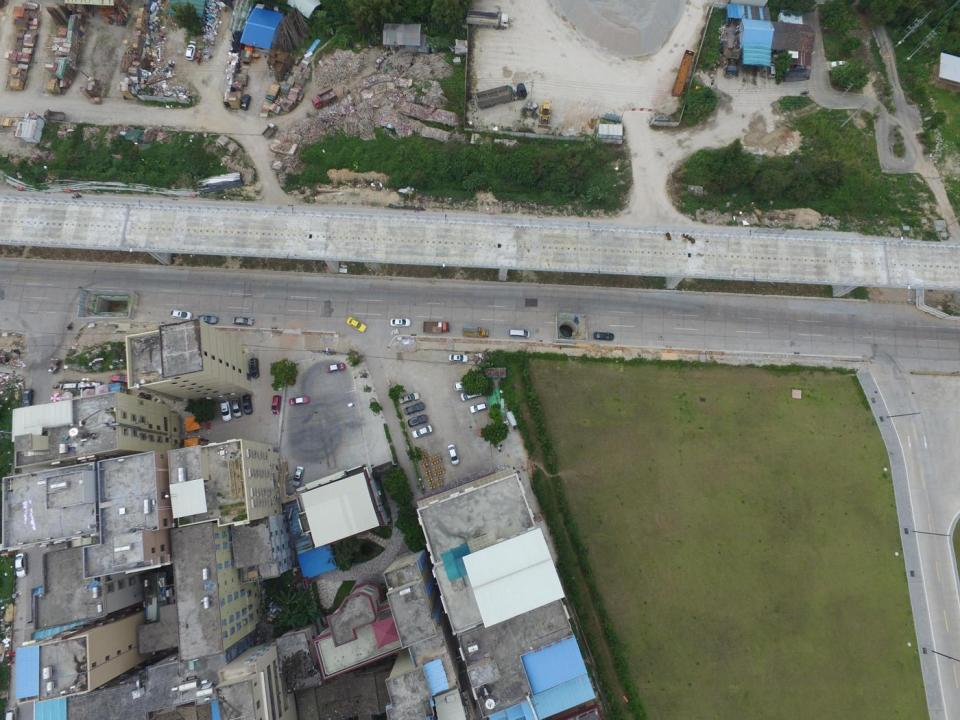car: (14, 552, 30, 578), (346, 317, 368, 332), (407, 414, 429, 427), (447, 443, 460, 465), (292, 465, 305, 487), (219, 399, 232, 421), (412, 425, 433, 438), (592, 330, 614, 342), (398, 392, 420, 404), (230, 316, 254, 327), (170, 309, 192, 321), (405, 402, 425, 415), (247, 358, 260, 378), (20, 388, 33, 408), (242, 393, 253, 415), (325, 362, 345, 374), (289, 395, 310, 406), (195, 315, 218, 325), (110, 374, 133, 384), (230, 398, 242, 417), (270, 394, 280, 415), (185, 43, 197, 60), (478, 426, 496, 437), (239, 94, 251, 110), (390, 317, 411, 326), (448, 354, 469, 363), (453, 380, 470, 391), (470, 403, 486, 413)
truck: (474, 82, 527, 110), (465, 9, 510, 30), (723, 44, 740, 78), (310, 88, 337, 108), (422, 319, 450, 334), (460, 324, 489, 338), (480, 367, 507, 379), (261, 122, 277, 138)
van: (459, 389, 482, 401), (509, 328, 530, 339), (766, 62, 774, 80), (830, 60, 848, 68)
